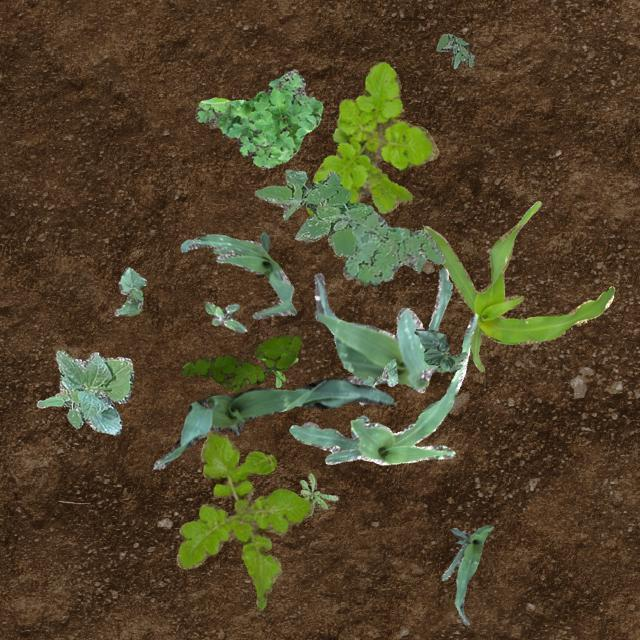crop: (422, 200, 614, 370), (288, 312, 476, 463), (152, 376, 392, 468), (313, 266, 452, 392), (180, 230, 296, 318), (36, 349, 132, 434), (440, 524, 492, 624), (414, 328, 466, 372), (114, 266, 146, 314), (362, 358, 396, 387)
weed: (175, 430, 312, 608), (306, 61, 438, 216), (194, 68, 322, 168), (254, 168, 372, 255), (342, 210, 444, 284), (180, 334, 300, 389), (298, 472, 336, 514), (434, 32, 472, 68), (203, 301, 246, 331), (258, 356, 284, 386)
